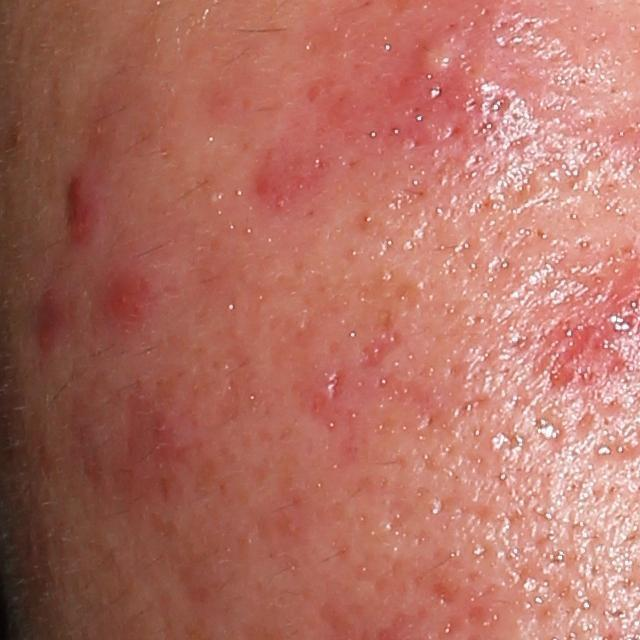atrophic_scar: (355, 307, 404, 372), (429, 579, 456, 613)
papule: (100, 269, 157, 326), (60, 168, 101, 237), (33, 290, 67, 354), (140, 402, 183, 450)
